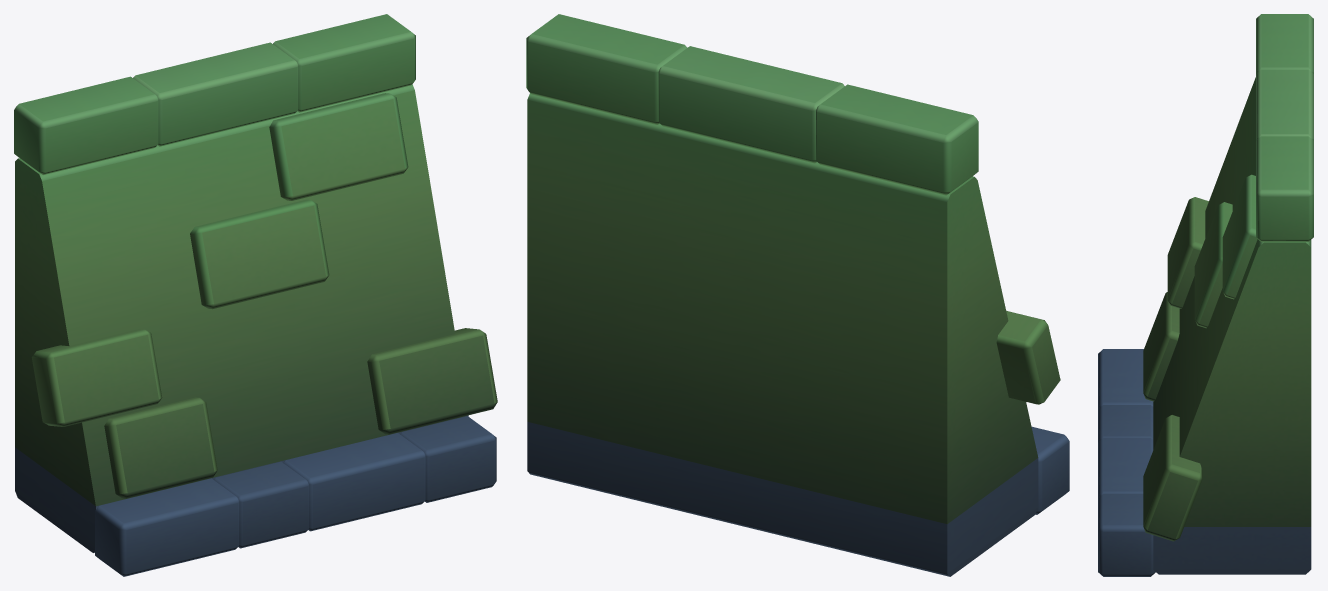
Rendered from wall_lower_straight_double.fbx.
The picture shows the model from 3 angles, left to right: view 1: azimuth 30°, elevation 25°; view 2: azimuth 150°, elevation 25°; view 3: azimuth 270°, elevation 25°; orthographic projection. The views are drawn at different scales.
Visible parts, largest first — view 1: wall_lower_straight_double; view 2: wall_lower_straight_double; view 3: wall_lower_straight_double.
Part boxes in pixels (x1=…): wall_lower_straight_double: x1=14, y1=14, x2=497, y2=576; wall_lower_straight_double: x1=526, y1=14, x2=1069, y2=576; wall_lower_straight_double: x1=1098, y1=14, x2=1313, y2=576.
Bounding box in the file's own units: 459 × 406 × 205.
